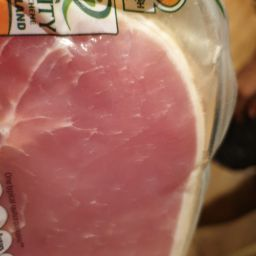Bacon: (9, 40, 209, 255), (2, 42, 241, 211), (121, 14, 241, 240), (127, 84, 231, 256)
